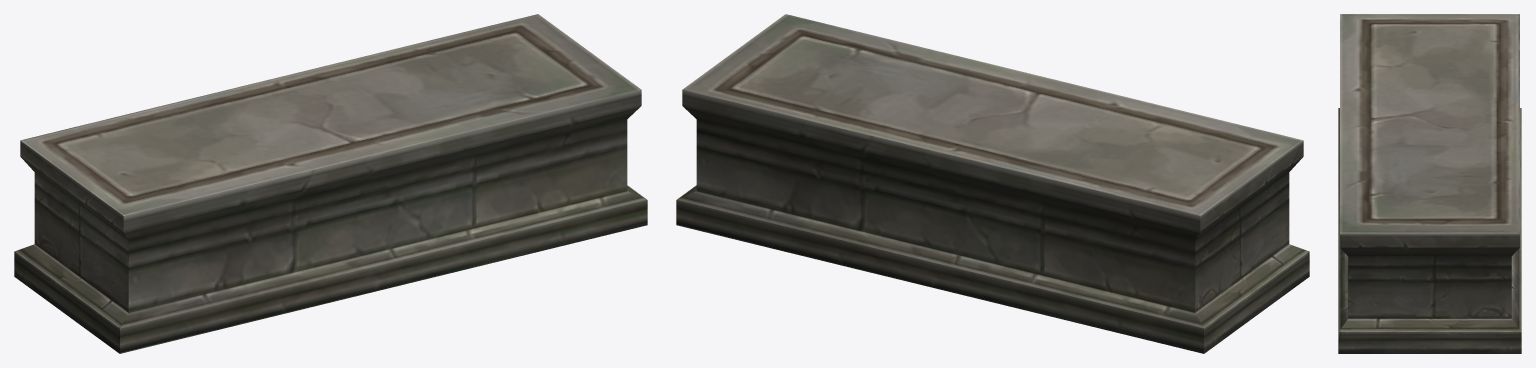
File: DN_1_4_gcai.FBX
The picture shows the model from 3 angles, left to right: view 1: azimuth 30°, elevation 25°; view 2: azimuth 150°, elevation 25°; view 3: azimuth 270°, elevation 25°; orthographic projection. The views are drawn at different scales.
Parts seen in each view (by area): view 1: DN_1_4_gcai; view 2: DN_1_4_gcai; view 3: DN_1_4_gcai.
Part boxes in pixels (x1,y1,x2,y2): DN_1_4_gcai: (14, 14, 647, 353); DN_1_4_gcai: (676, 14, 1309, 353); DN_1_4_gcai: (1338, 14, 1521, 353).
Size of the model in its own units: 152 by 37.53 by 52.73.
